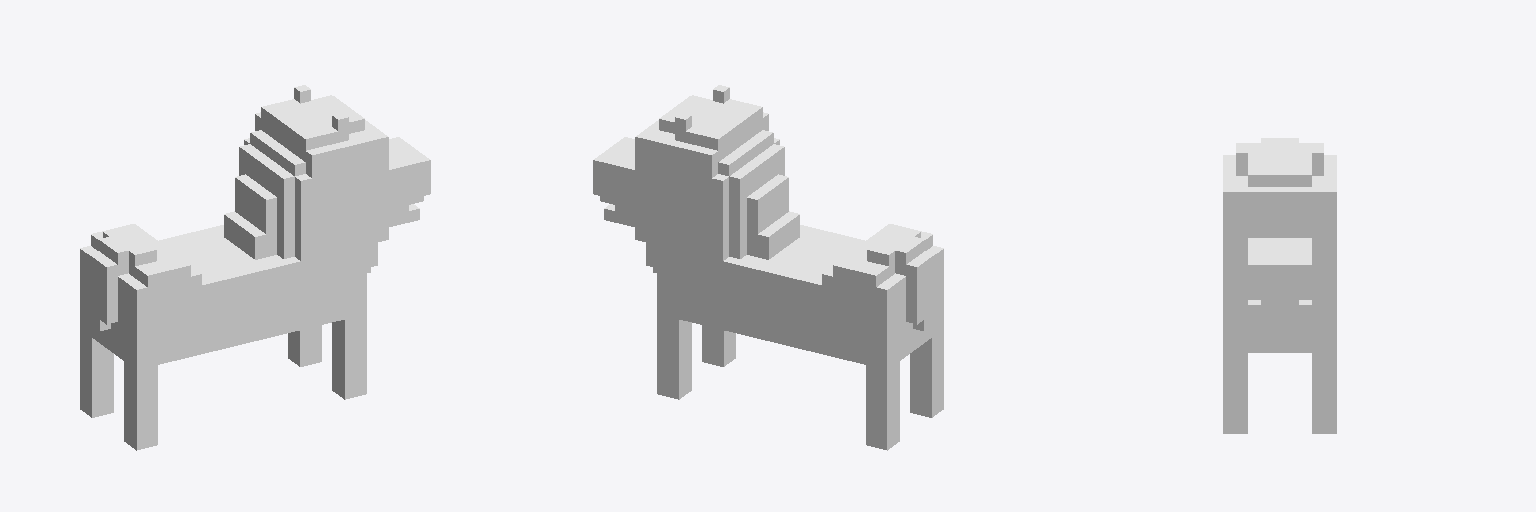
File: Animals-25.obj
3 views of the same model, side by side, from view 1: azimuth 30°, elevation 25°; view 2: azimuth 150°, elevation 25°; view 3: azimuth 270°, elevation 25° (orthographic).
Parts seen in each view (by area): view 1: object 1; view 2: object 1; view 3: object 1.
Boxes of the visible parts, <box> form: object 1: <box>80,85,430,450</box>; object 1: <box>593,85,943,450</box>; object 1: <box>1223,138,1336,433</box>.
Bounding box in the file's own units: 2.9 × 2.4 × 0.9.